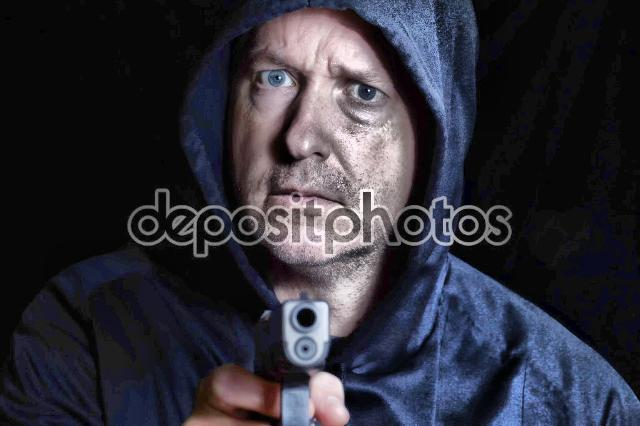pistol: (238, 306, 352, 422)
